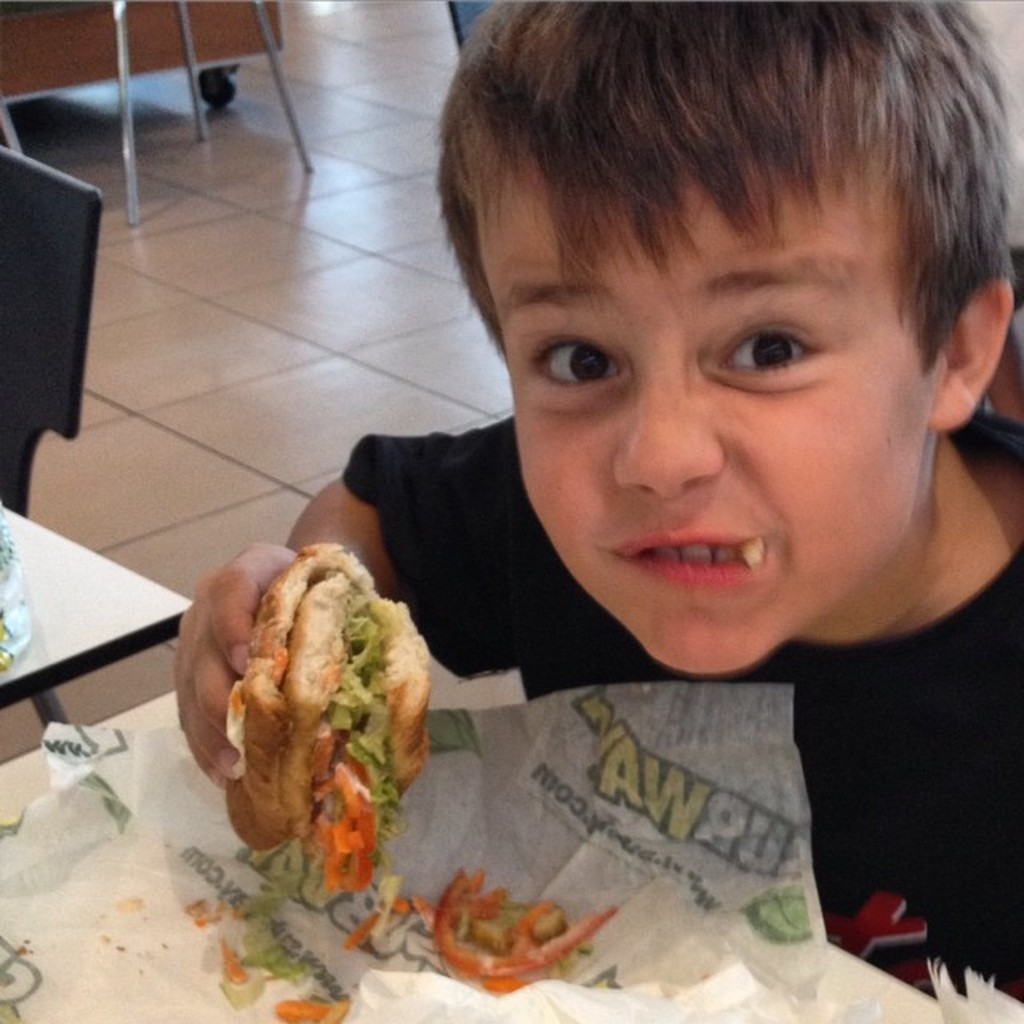sandwich: (227, 539, 434, 896)
